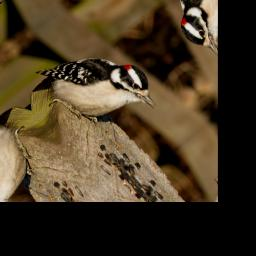Woodpecker: (25, 20, 167, 159)
